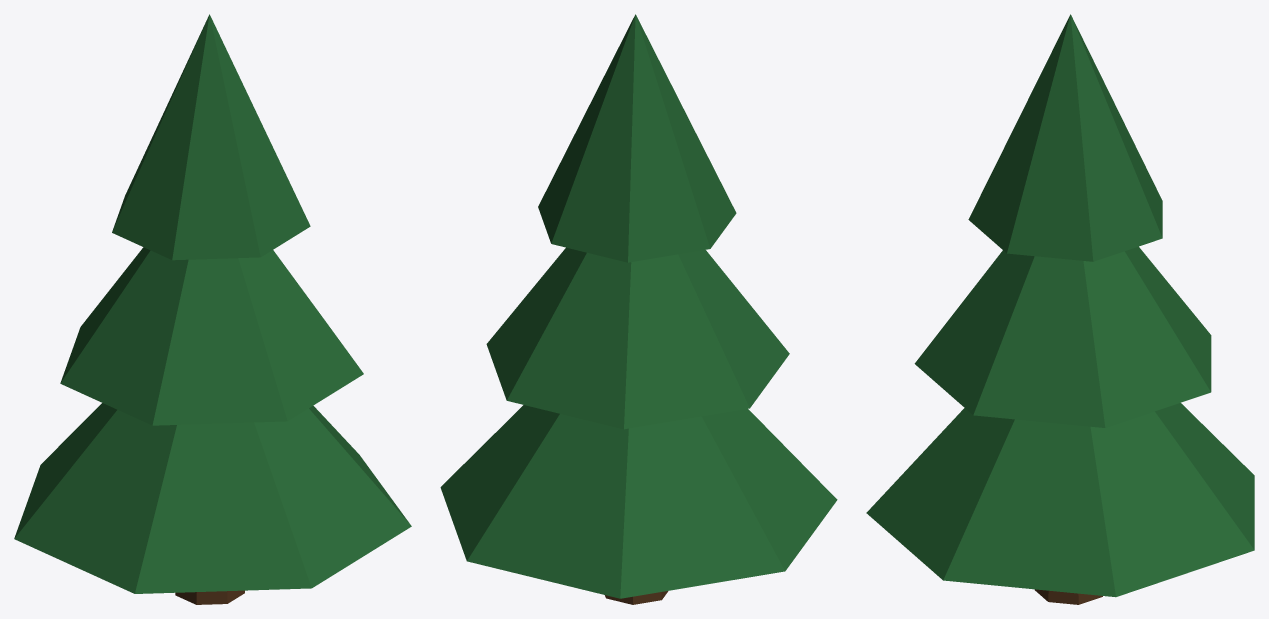
File: pine-tree-3ea075.glb
The picture shows the model from 3 angles, left to right: view 1: azimuth 30°, elevation 25°; view 2: azimuth 150°, elevation 25°; view 3: azimuth 270°, elevation 25°; orthographic projection.
Bounding box in the file's own units: 1.4 × 2.24 × 1.37.
